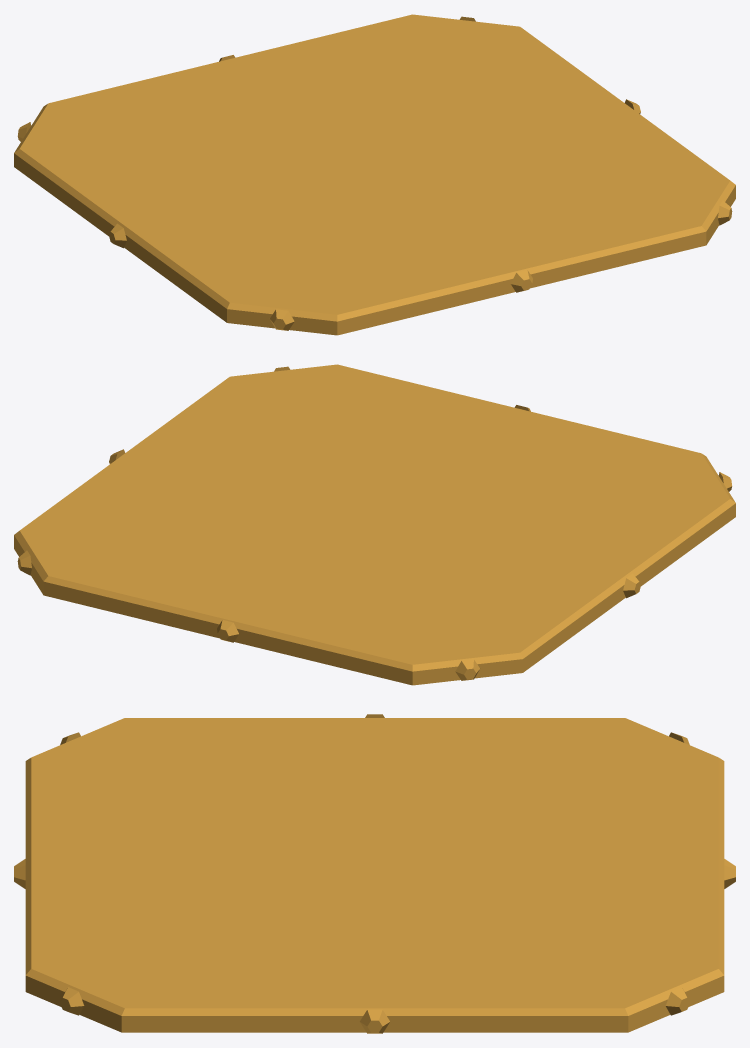
The model's file is TeslaKit3.obj.
3 views of the same model, one above another, from view 1: azimuth 30°, elevation 25°; view 2: azimuth 150°, elevation 25°; view 3: azimuth 270°, elevation 25° (orthographic). The views are drawn at different scales.
Visible parts, largest first — view 1: TeslaKit3; view 2: TeslaKit3; view 3: TeslaKit3.
Boxes of the visible parts, <box> form: TeslaKit3: <box>14,14,735,335</box>; TeslaKit3: <box>14,364,735,685</box>; TeslaKit3: <box>14,714,735,1033</box>.
Size of the model in its own units: 0.752 by 0.0277 by 0.752.
